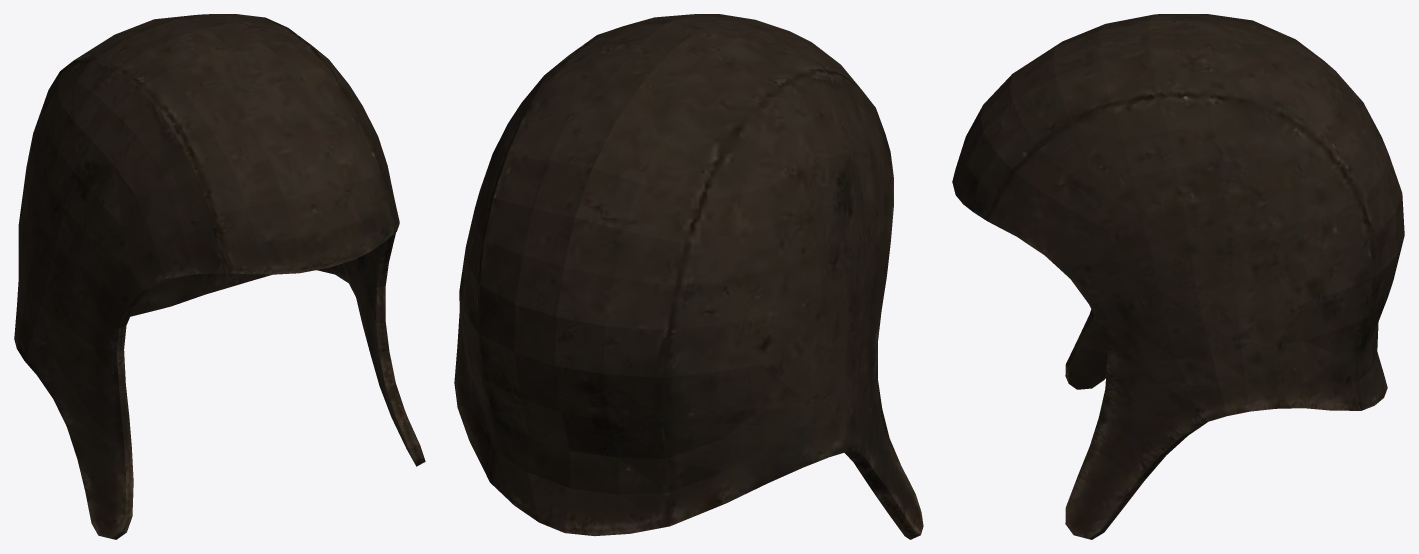
File: CZEPIEC.glb
The picture shows the model from 3 angles, left to right: view 1: azimuth 30°, elevation 25°; view 2: azimuth 150°, elevation 25°; view 3: azimuth 270°, elevation 25°; orthographic projection. The views are drawn at different scales.
Parts seen in each view (by area): view 1: CZEPIEC; view 2: CZEPIEC; view 3: CZEPIEC.
Part boxes in pixels (<box>): CZEPIEC: <box>14,14,425,539</box>; CZEPIEC: <box>454,14,923,539</box>; CZEPIEC: <box>952,14,1404,539</box>.
Bounding box in the file's own units: 0.2241 × 0.2766 × 0.263.
1 material, 1 textured.
